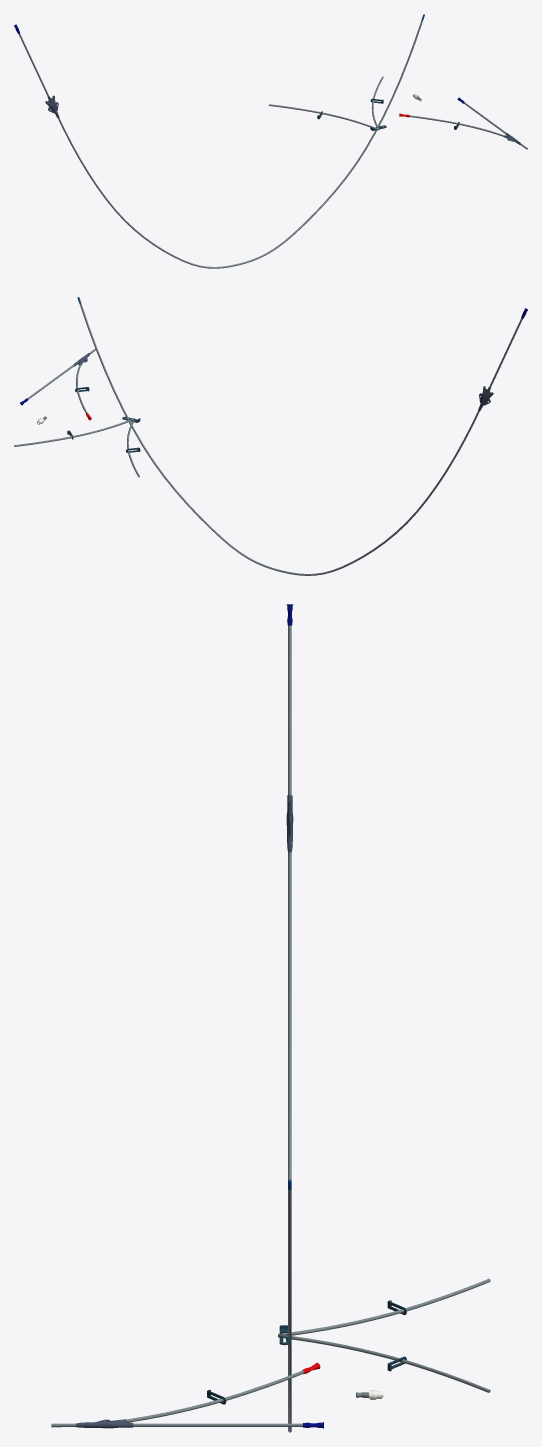
File: picc.glb
3 renders of one model, top to bottom at view 1: azimuth 30°, elevation 25°; view 2: azimuth 150°, elevation 25°; view 3: azimuth 270°, elevation 25°, orthographic. The views are drawn at different scales.
Parts seen in each view (by area): view 1: model_1, model_0; view 2: model_1, model_0; view 3: model_0, model_1.
Part boxes in pixels (x1,y1,x2,y2): model_1: (19, 20, 422, 268); model_0: (268, 76, 527, 149); model_1: (79, 303, 522, 575); model_0: (14, 349, 140, 477); model_0: (51, 1278, 490, 1428); model_1: (288, 625, 291, 1432).
Size of the model in its own units: 0.4948 by 0.3064 by 0.2069.
Materials: 1 (1 with a texture image).
